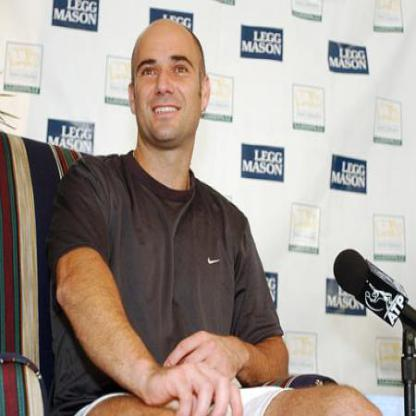face: (132, 22, 207, 145)
